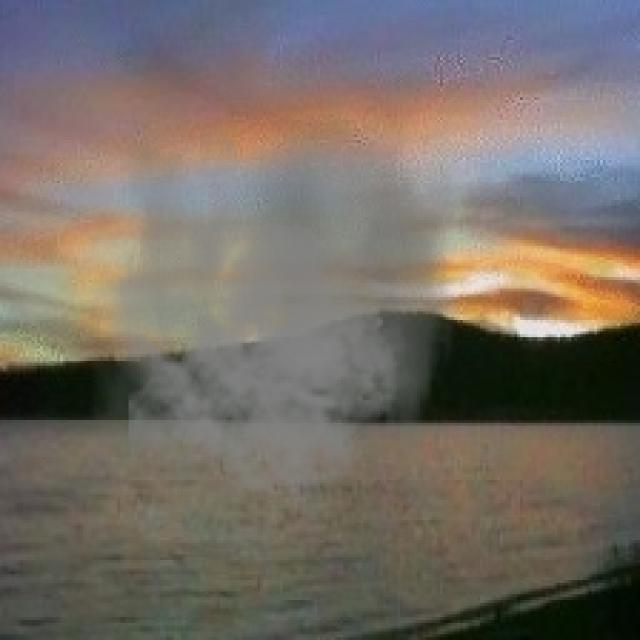Smoke: (89, 120, 458, 506)
